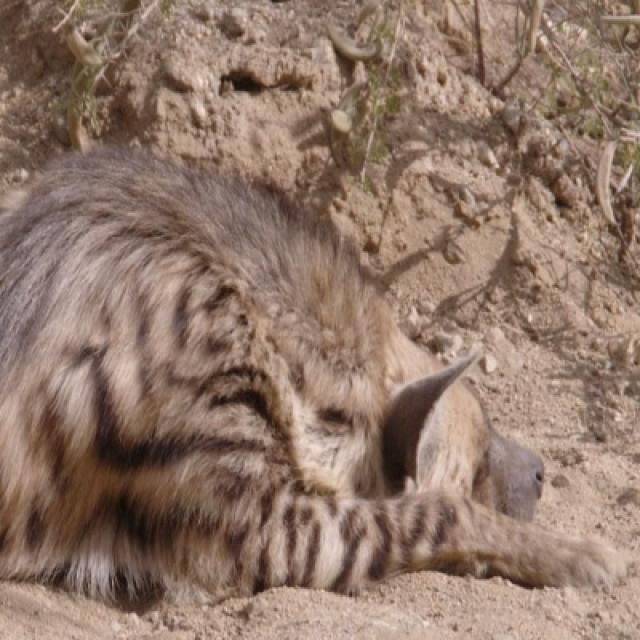hyena: (0, 147, 618, 618)
